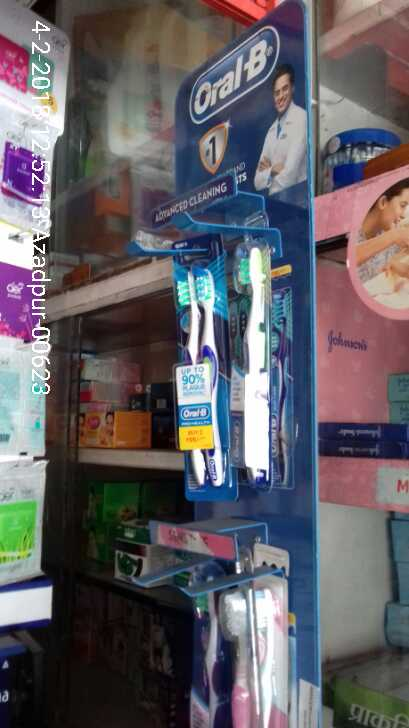oralb: (168, 252, 226, 497), (227, 247, 279, 476)
